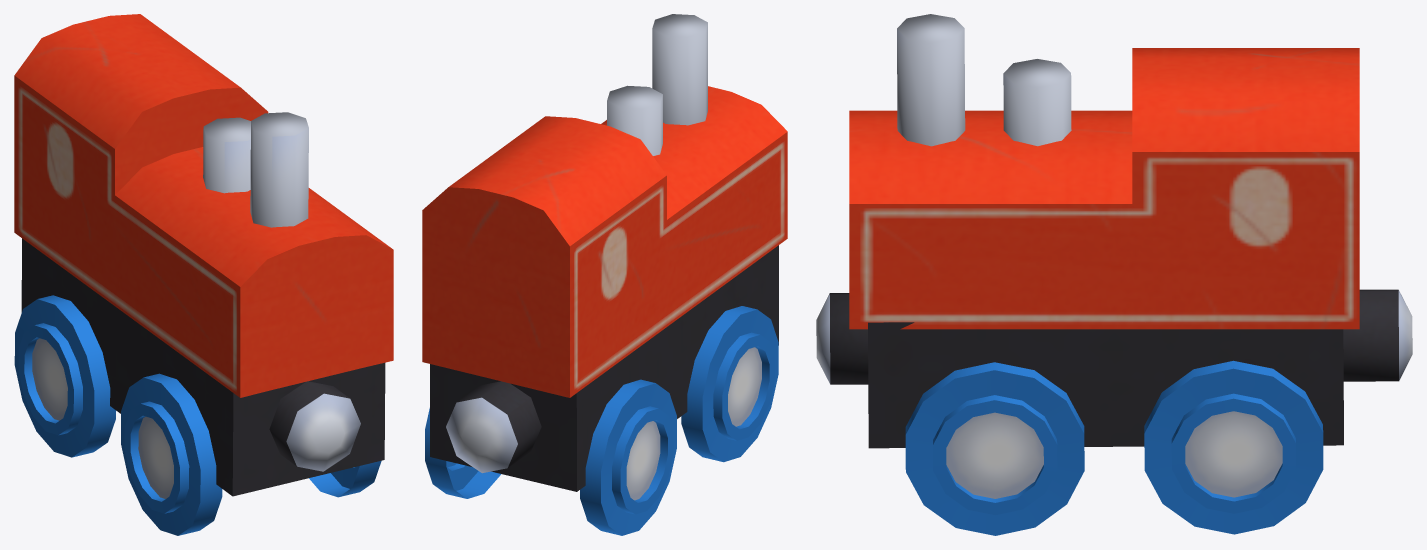
Rendered from Train1.fbx.
3 views of the same model, side by side, from view 1: azimuth 30°, elevation 25°; view 2: azimuth 150°, elevation 25°; view 3: azimuth 270°, elevation 25° (orthographic). The views are drawn at different scales.
Visible parts, largest first — view 1: Train1, Train1_Smoke, Train1_Bump1; view 2: Train1, Train1_Smoke, Train1_Bump2; view 3: Train1, Train1_Smoke, Train1_Bump2, Train1_Bump1.
Boxes of the visible parts, <box> form: Train1: <box>14,14,393,535</box>; Train1_Smoke: <box>203,112,308,227</box>; Train1_Bump1: <box>269,381,360,471</box>; Train1: <box>422,86,787,535</box>; Train1_Smoke: <box>607,14,707,155</box>; Train1_Bump2: <box>446,381,541,473</box>; Train1: <box>849,48,1359,535</box>; Train1_Smoke: <box>897,14,1071,146</box>; Train1_Bump2: <box>1343,289,1412,381</box>; Train1_Bump1: <box>816,293,868,384</box>.
Bounding box in the file's own units: 61.06 × 118 × 140.
